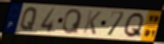4: (39, 7, 56, 33)
7: (107, 10, 126, 37)
K: (81, 9, 103, 36)
Q: (122, 12, 146, 40), (61, 8, 83, 35), (19, 6, 39, 32)
